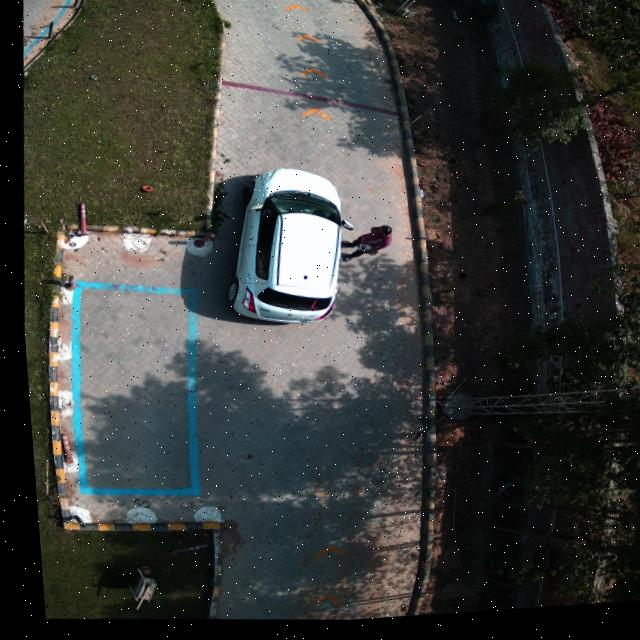car: (222, 172, 341, 327)
